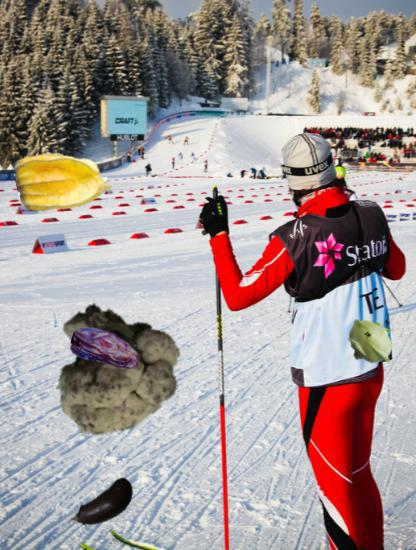Cauliflower: (42, 299, 178, 435)
Dates: (70, 312, 142, 384)
Eggplant: (71, 470, 140, 539)
Kohlrabi: (343, 314, 401, 372)
Physalis: (16, 133, 110, 227)
